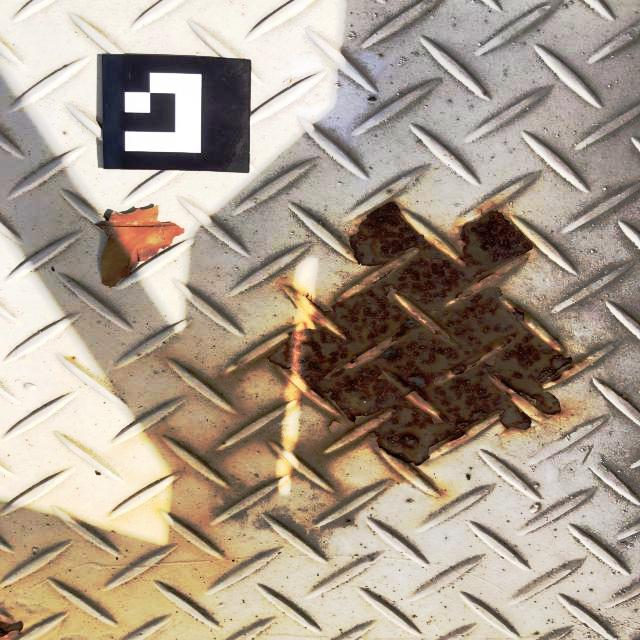Corrosion: (237, 200, 578, 492), (0, 622, 22, 640)
